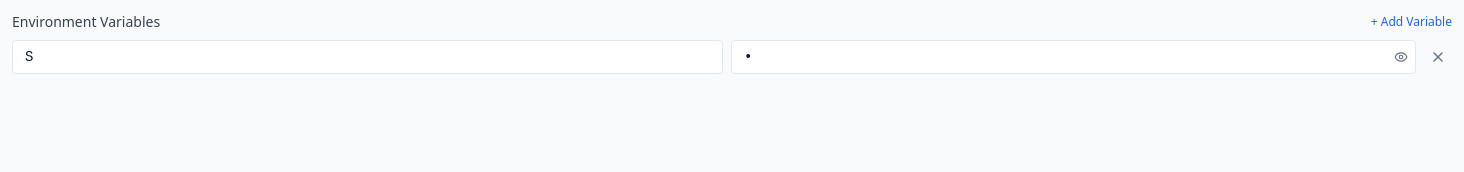
Test: EnvVarEditor › hides value again on second toggle
Click the button with test id "env-reveal-0" at {"x": 1401, "y": 57}, box [1394,50,1408,64]
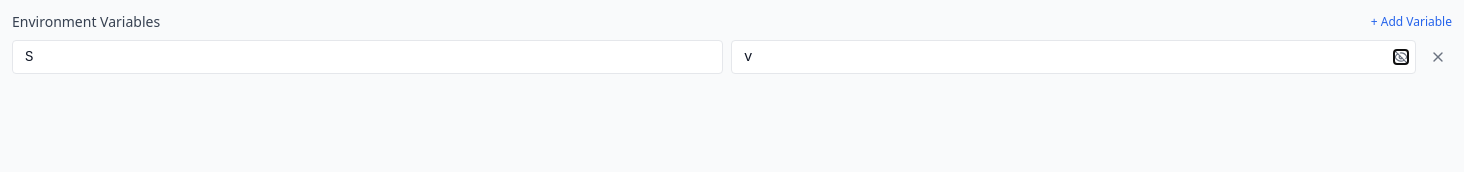
Expected: the field with test id "env-value-0" shows its text, [731,40,1416,74]
Click the button with test id "env-reveal-0" at {"x": 1401, "y": 57}, box [1394,50,1408,64]
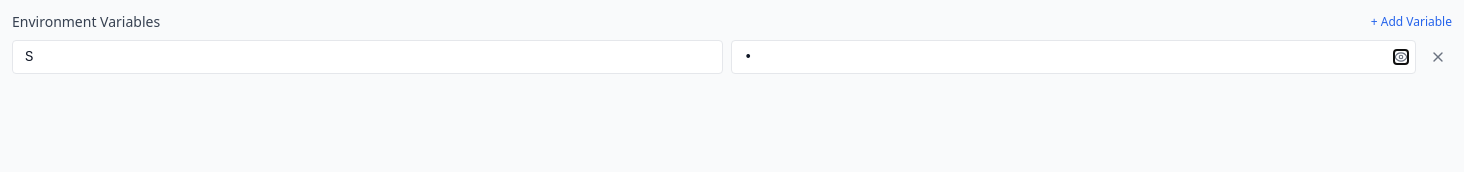
Expected: the password field with test id "env-value-0" hides its text, [731,40,1416,74]
